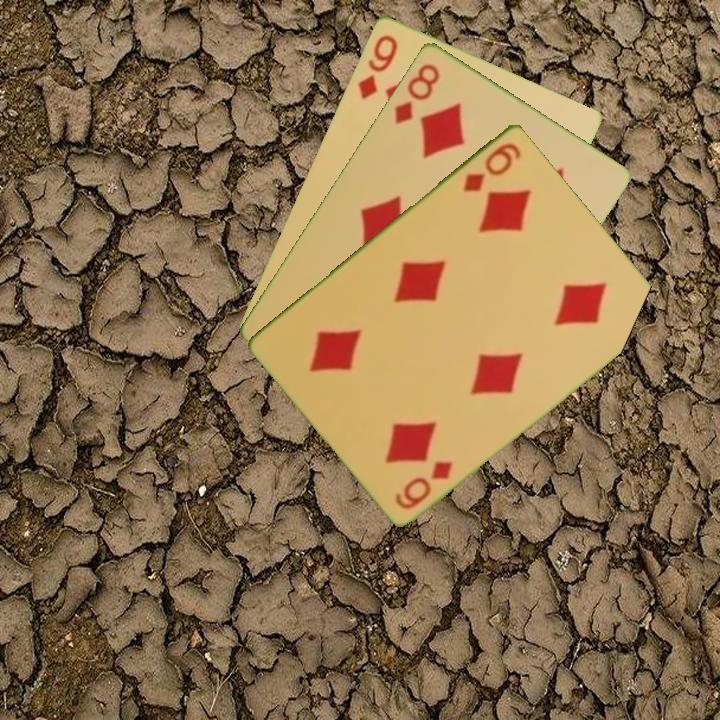6d: (459, 138, 524, 195), (391, 456, 456, 512)
8d: (390, 59, 443, 127)
9d: (354, 30, 401, 102)
